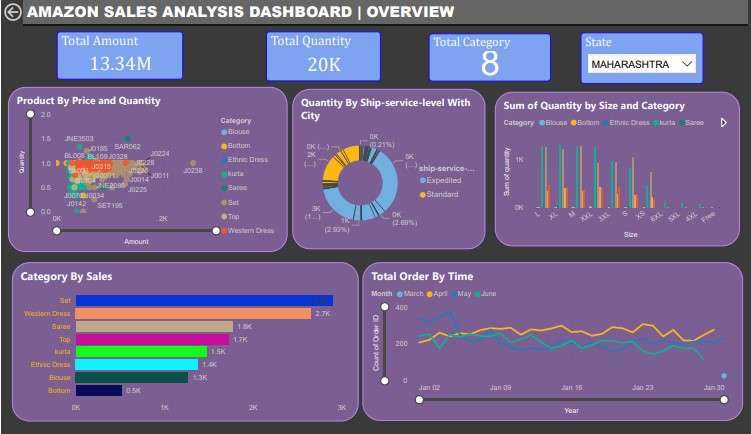

The page's visual inventory and layout, read from the dashboard file:
{"tool":"powerbi","page":{"name":"Amazon Sale Analysis ","canvas":[1280,720],"ordinal":0},"visuals":[{"type":"textbox","title":" AMAZON SALES ANALYSIS DASHBOARD | OVERVIEW  ","box":[38,0,1240,44],"z":0},{"type":"card","title":"Total Amount ","fields":{"Values":["Sum(Amazon Sale Report.Amount)"]},"box":[95,53.3,216,82.1],"z":1000},{"type":"actionButton","box":[0,0,100,40],"z":2000},{"type":"card","title":"Total Quantity","fields":{"Values":["Sum(Amazon Sale Report.quantity )"]},"box":[453.6,53.3,195.8,85],"z":3000},{"type":"card","title":"Total Category ","fields":{"Values":["Count(Amazon Sale Report.Category)"]},"box":[731.5,56.2,208.8,82.1],"z":4000},{"type":"scatterChart","title":"Product By Price and Quantity","fields":{"Category":["Amazon Sale Report.Product Style"],"Y":["Avg(Amazon Sale Report.quantity )"],"X":["Avg(Amazon Sale Report.Amount)"],"Series":["Amazon Sale Report.Category"]},"box":[11.5,148.3,478.1,282.2],"z":5000},{"type":"barChart","title":" Category By Sales ","fields":{"Category":["Amazon Sale Report.Category"],"Y":["Max(Amazon Sale Report.Amount)"]},"box":[18.7,447.8,593.3,272.2],"z":6000},{"type":"slicer","title":"State","fields":{"Values":["Amazon Sale Report.ship-state"]},"box":[992.2,54.7,210.2,87.8],"z":7000},{"type":"lineChart","title":"Total Order By Time ","fields":{"Y":["Count(Amazon Sale Report.Order ID)"],"Category":["Amazon Sale Report.Date.Variation.Date Hierarchy.Year","Amazon Sale Report.Date.Variation.Date Hierarchy.Day"],"Series":["Amazon Sale Report.Date.Variation.Date Hierarchy.Month"]},"box":[617.8,447.8,650.9,270.7],"z":8000},{"type":"clusteredColumnChart","title":"Sum of Quantity by Size and Category","fields":{"Category":["Amazon Sale Report.Size"],"Series":["Amazon Sale Report.Category"],"Y":["Sum(Amazon Sale Report.quantity )"]},"box":[845.3,157,419,263.5],"z":9000},{"type":"donutChart","title":" Quantity  By Ship-service-level With City","fields":{"Category":["Amazon Sale Report.ship-service-level"],"Series":["Amazon Sale Report.ship-city"],"Y":["Sum(Amazon Sale Report.quantity )"]},"box":[498.2,151.2,329.8,273.6],"z":10000}]}

Visuals, with their boxes in screenshot pixels (x1, y1, x2, y2), scaled from the page's 1280x720 canvas onto the 751x434 screenshot:
" AMAZON SALES ANALYSIS DASHBOARD | OVERVIEW  " textbox: box=[22, 0, 750, 27]
"Total Amount " card: box=[56, 32, 182, 82]
actionButton: box=[0, 0, 59, 24]
"Total Quantity" card: box=[266, 32, 381, 83]
"Total Category " card: box=[429, 34, 552, 83]
"Product By Price and Quantity" scatterChart: box=[7, 89, 287, 259]
" Category By Sales " barChart: box=[11, 270, 359, 433]
"State" slicer: box=[582, 33, 705, 86]
"Total Order By Time " lineChart: box=[362, 270, 744, 433]
"Sum of Quantity by Size and Category" clusteredColumnChart: box=[496, 95, 742, 253]
" Quantity  By Ship-service-level With City" donutChart: box=[292, 91, 486, 256]
